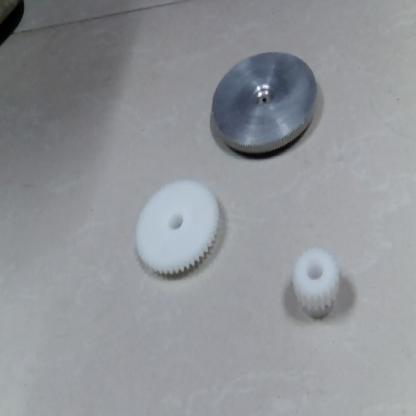FOD: (208, 51, 322, 154), (128, 178, 221, 280), (289, 243, 346, 325)
